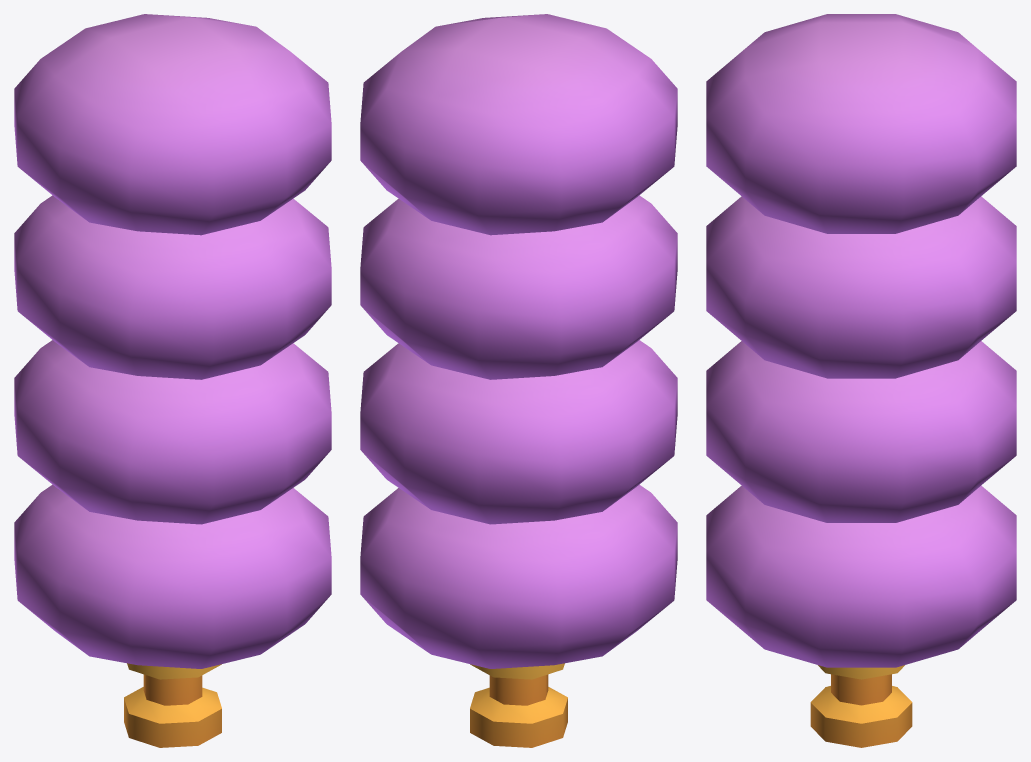
File: obstacle_3.fbx
The picture shows the model from 3 angles, left to right: view 1: azimuth 30°, elevation 25°; view 2: azimuth 150°, elevation 25°; view 3: azimuth 270°, elevation 25°; orthographic projection.
Parts seen in each view (by area): view 1: obstacle_3; view 2: obstacle_3; view 3: obstacle_3.
Boxes of the visible parts, x1=… form: obstacle_3: x1=14, y1=14, x2=331, y2=747; obstacle_3: x1=360, y1=14, x2=677, y2=747; obstacle_3: x1=706, y1=14, x2=1016, y2=747.
Size of the model in its own units: 96.76 by 235 by 96.76.
